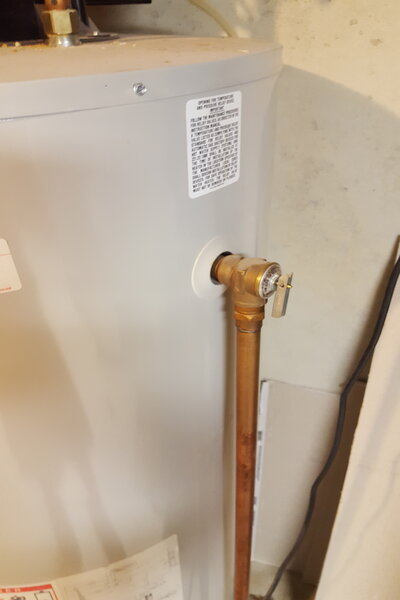valve: (209, 251, 294, 347)
